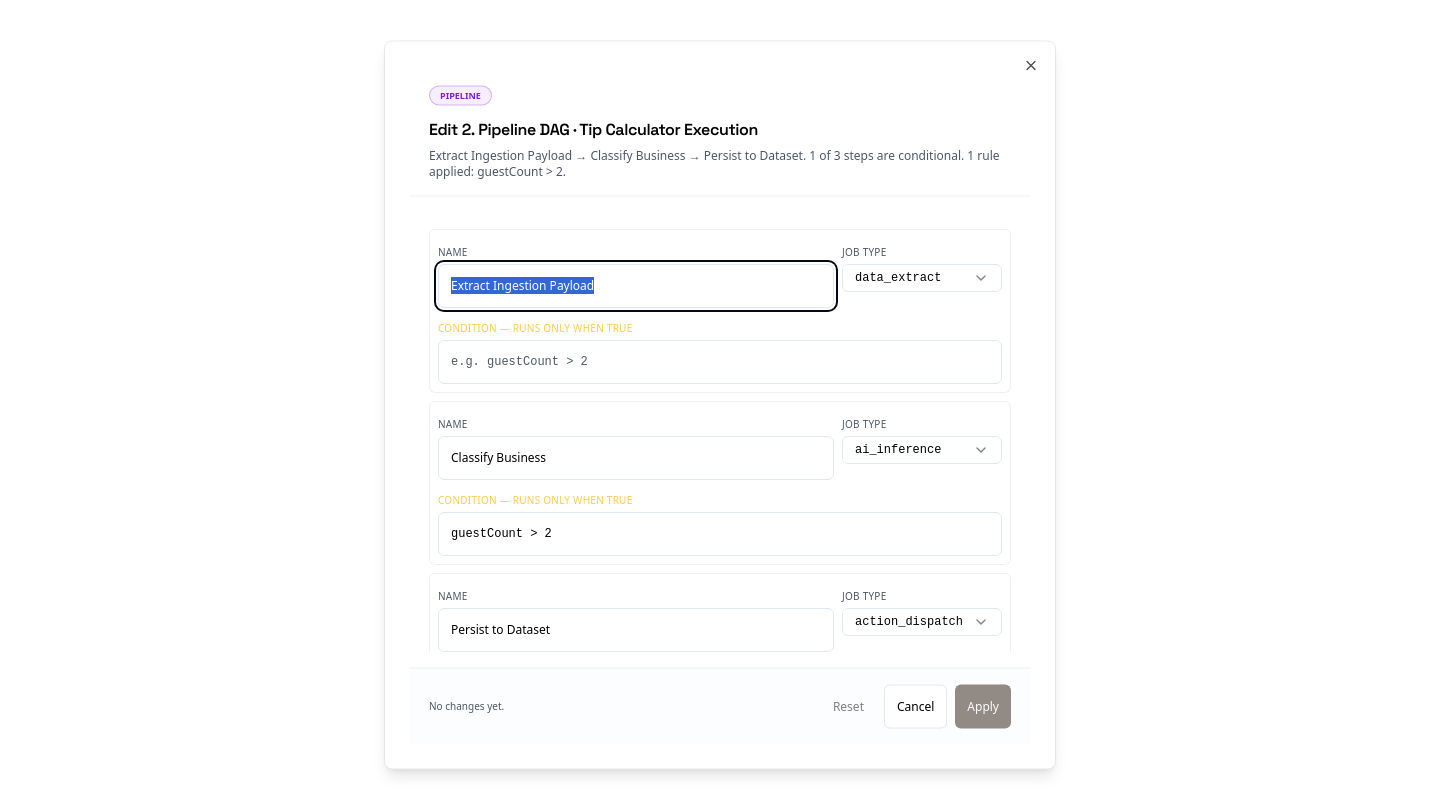
Test case: assembly detail editor › prevents incomplete surface edits and lets the user reset safely
Clear the field named "Extract Ingestion Payload name" at [636, 285], box [438, 263, 834, 307]
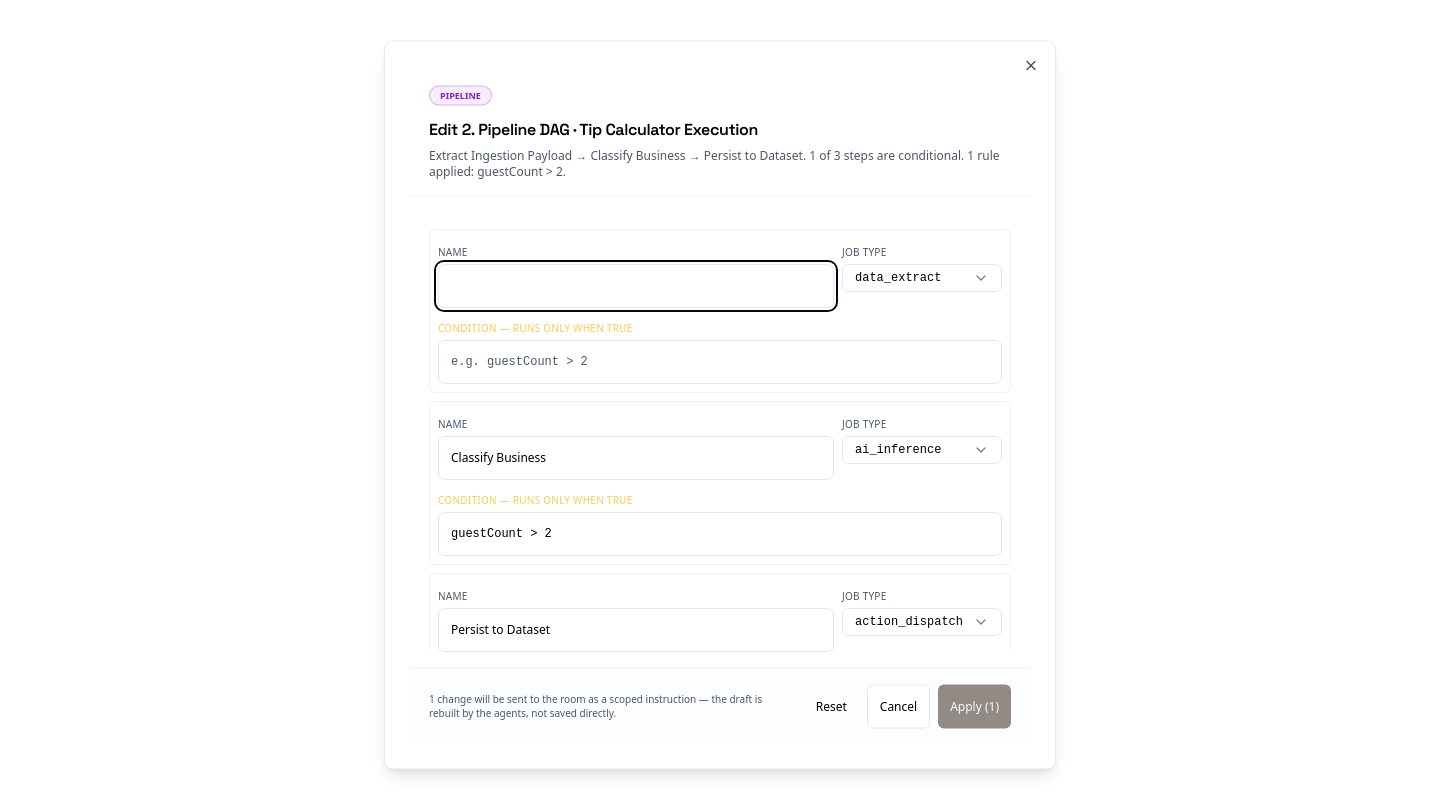
Expected: the button with test id "assembly-editor-apply" is disabled, [938, 684, 1011, 728]
Click the button "Reset" at [831, 706], box [804, 684, 859, 728]
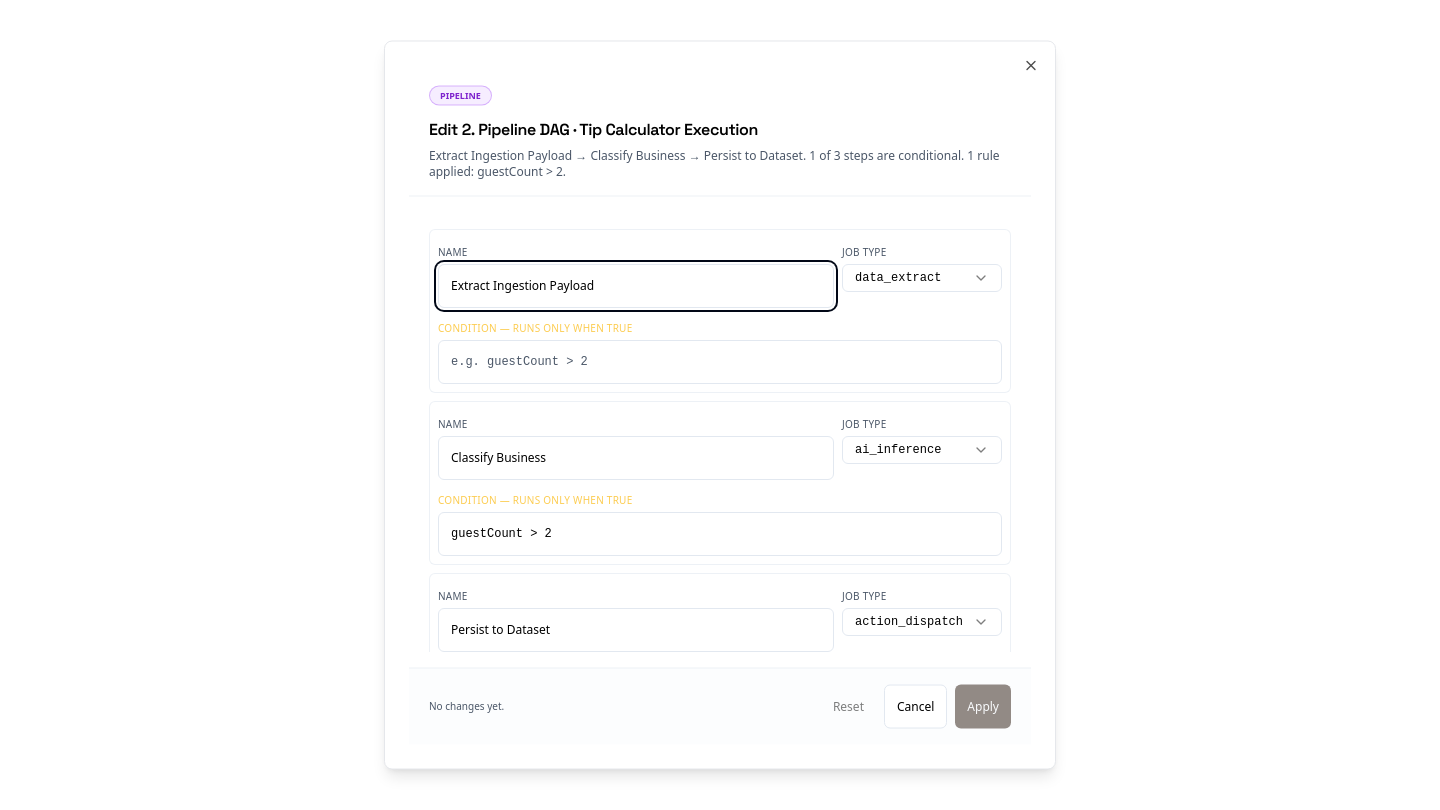
Expected: the field named "Extract Ingestion Payload name" holds "Extract Ingestion Payload", [438, 263, 834, 307]
